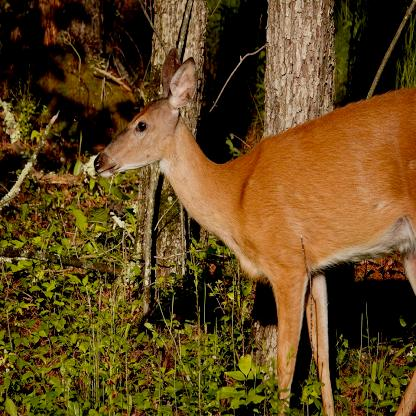Deer: (88, 47, 416, 416)
